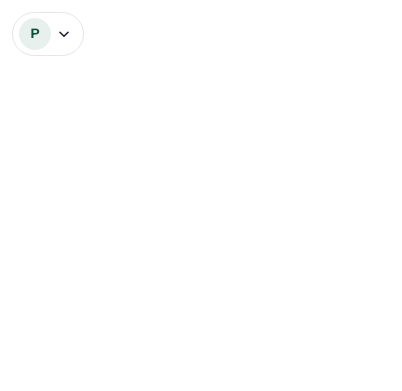
Scenario: keeps the account actions after the navigation entries
What coordinates should you click on to do the following:
click the button named "account: pat"
I would click on:
 (48, 34)
Its box is [12,12,84,56].
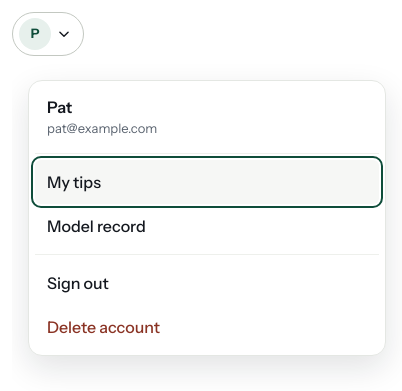
Check: the menu items read "My tips", "Model record", "Sign out", "Delete account", in this order, box [35,160,379,204]; [47,216,146,236]; [35,260,379,304]; [35,304,379,348]
